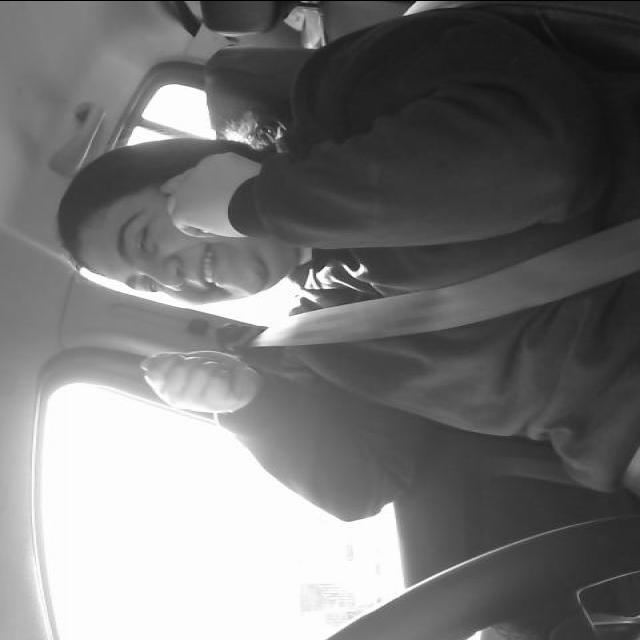mobile use: (166, 154, 240, 242)
